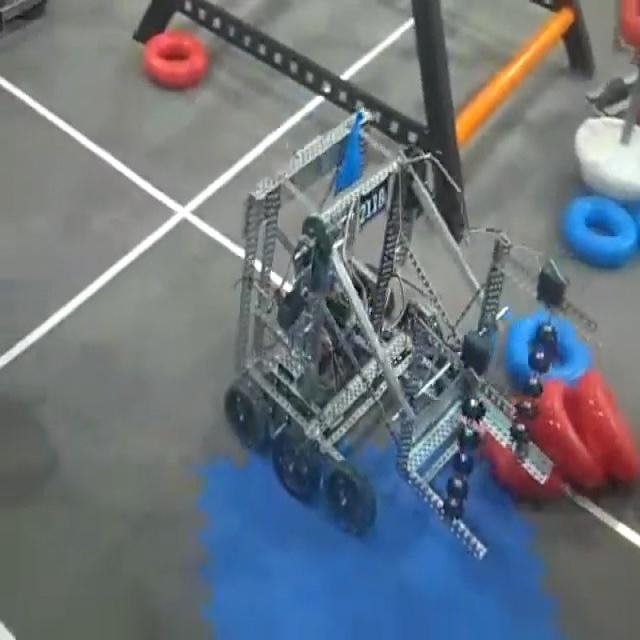Blue-Ring: (505, 308, 591, 389), (562, 195, 638, 268)
Red-Ring: (564, 370, 640, 482), (528, 380, 605, 488), (480, 433, 564, 501), (145, 32, 209, 88), (616, 0, 640, 42)
